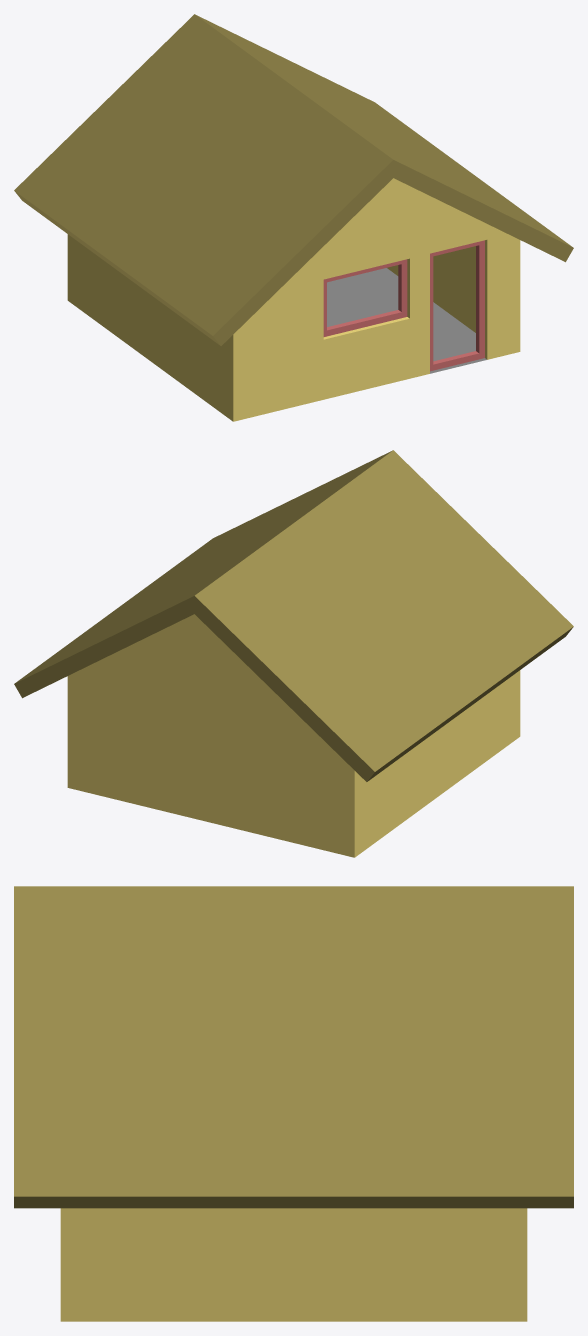
File: result.glb
The picture shows the model from 3 angles, top to bottom: view 1: azimuth 30°, elevation 25°; view 2: azimuth 150°, elevation 25°; view 3: azimuth 270°, elevation 25°; orthographic projection. The views are drawn at different scales.
Parts seen in each view (by area): view 1: ec4c6ca3-3e6b-4ef8-ada0-01d09277fde3__undefined (×2), 00ff9492-2445-4654-86b1-52b5ed0cf2c7__undefined, b907c143-654e-4f23-af9c-1fd8d438edeb__Plane_5, ce108456-2af2-467e-b4b1-e059b3143b15__Box, 0b004366-ce23-448d-8c5c-649e67a46fd3__Box_3; view 2: ec4c6ca3-3e6b-4ef8-ada0-01d09277fde3__undefined (×2), 00ff9492-2445-4654-86b1-52b5ed0cf2c7__undefined; view 3: ec4c6ca3-3e6b-4ef8-ada0-01d09277fde3__undefined, 00ff9492-2445-4654-86b1-52b5ed0cf2c7__undefined.
Boxes of the visible parts, bbox=[...] form: ec4c6ca3-3e6b-4ef8-ada0-01d09277fde3__undefined (×2): bbox=[14, 14, 573, 345]; 00ff9492-2445-4654-86b1-52b5ed0cf2c7__undefined: bbox=[67, 178, 520, 421]; b907c143-654e-4f23-af9c-1fd8d438edeb__Plane_5: bbox=[327, 268, 486, 373]; ce108456-2af2-467e-b4b1-e059b3143b15__Box: bbox=[430, 240, 484, 371]; 0b004366-ce23-448d-8c5c-649e67a46fd3__Box_3: bbox=[323, 259, 407, 336]; ec4c6ca3-3e6b-4ef8-ada0-01d09277fde3__undefined (×2): bbox=[14, 450, 573, 781]; 00ff9492-2445-4654-86b1-52b5ed0cf2c7__undefined: bbox=[67, 614, 520, 857]; ec4c6ca3-3e6b-4ef8-ada0-01d09277fde3__undefined: bbox=[14, 886, 573, 1208]; 00ff9492-2445-4654-86b1-52b5ed0cf2c7__undefined: bbox=[60, 1208, 527, 1321].
Bounding box in the file's own units: 629 × 398 × 600.
